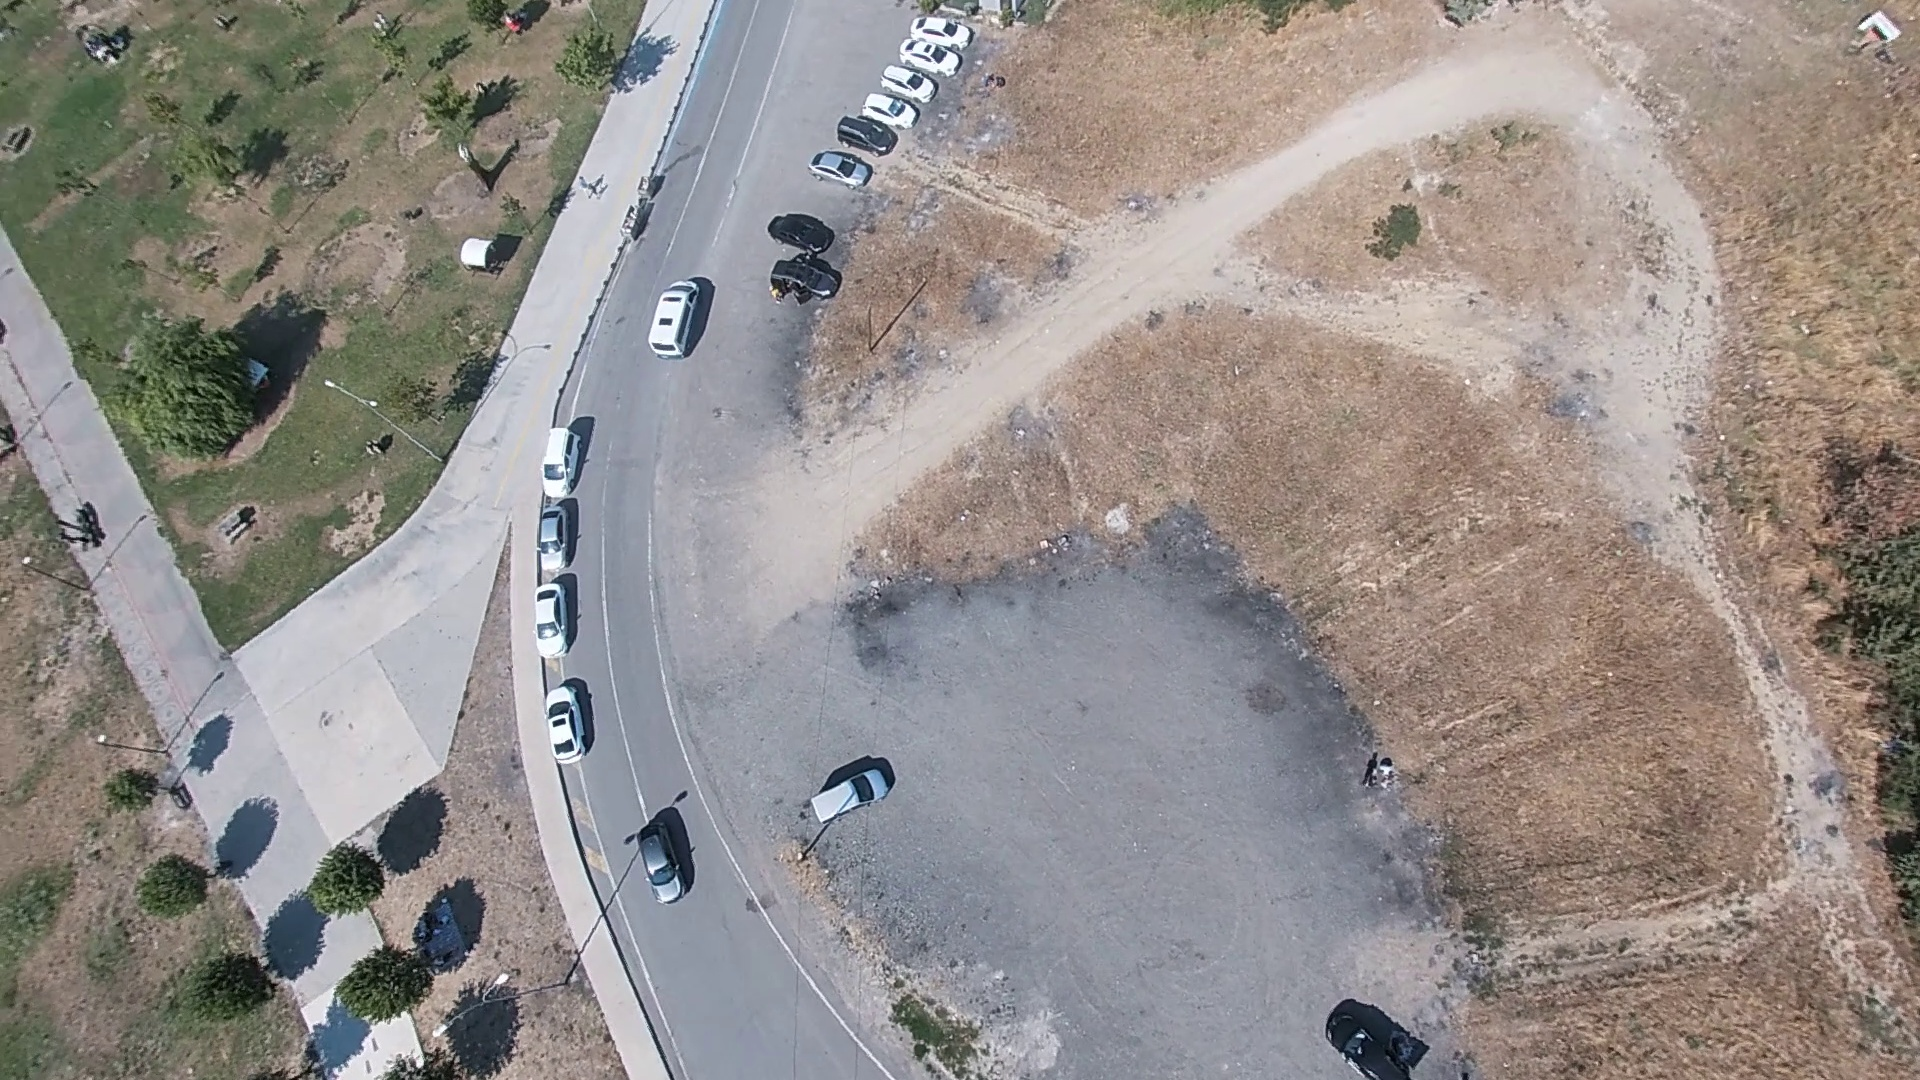arac: (793, 756, 892, 831), (631, 805, 693, 903), (648, 271, 709, 360), (857, 64, 936, 131), (547, 678, 597, 765), (807, 151, 870, 184)
insan: (240, 358, 273, 403), (221, 506, 257, 546), (1359, 756, 1392, 796)
